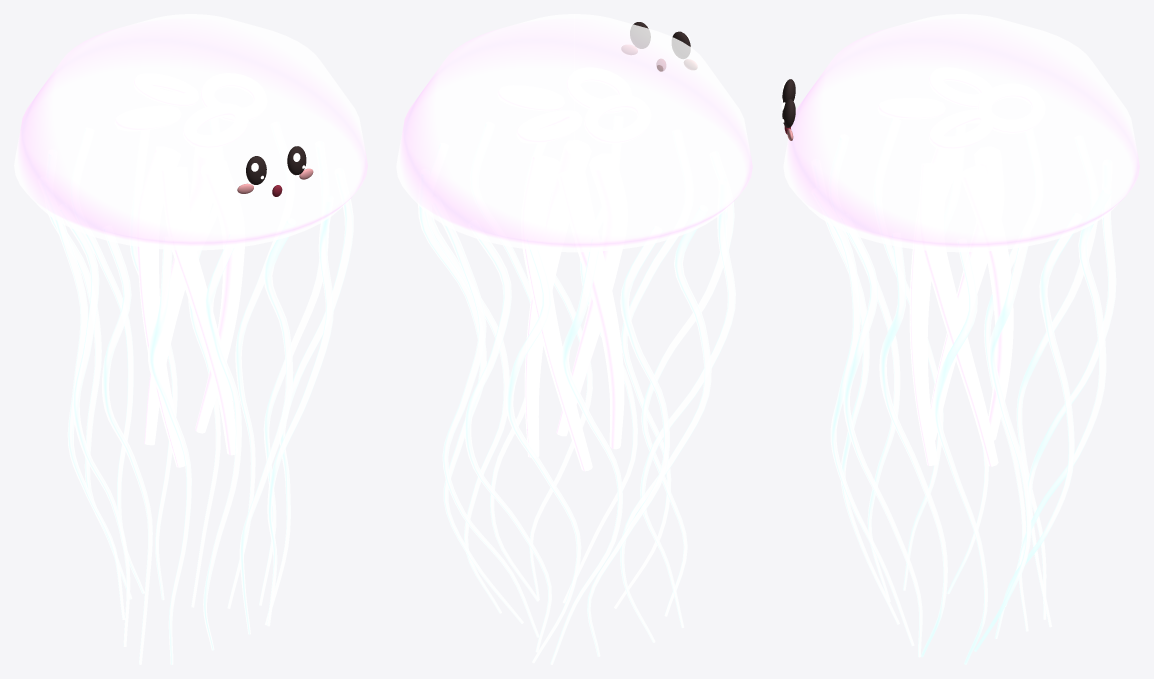
File: S10_Jellyfish_Giant.glb
3 renders of one model, left to right at view 1: azimuth 30°, elevation 25°; view 2: azimuth 150°, elevation 25°; view 3: azimuth 270°, elevation 25°, orthographic.
Visible parts, largest first — view 1: S10_Jellyfish_Giant_Mesh; view 2: S10_Jellyfish_Giant_Mesh; view 3: S10_Jellyfish_Giant_Mesh.
Boxes of the visible parts, bbox=[...] form: S10_Jellyfish_Giant_Mesh: bbox=[14, 14, 367, 664]; S10_Jellyfish_Giant_Mesh: bbox=[396, 14, 752, 664]; S10_Jellyfish_Giant_Mesh: bbox=[783, 14, 1139, 664].
Bounding box in the file's own units: 5 × 9.16 × 5.03.
